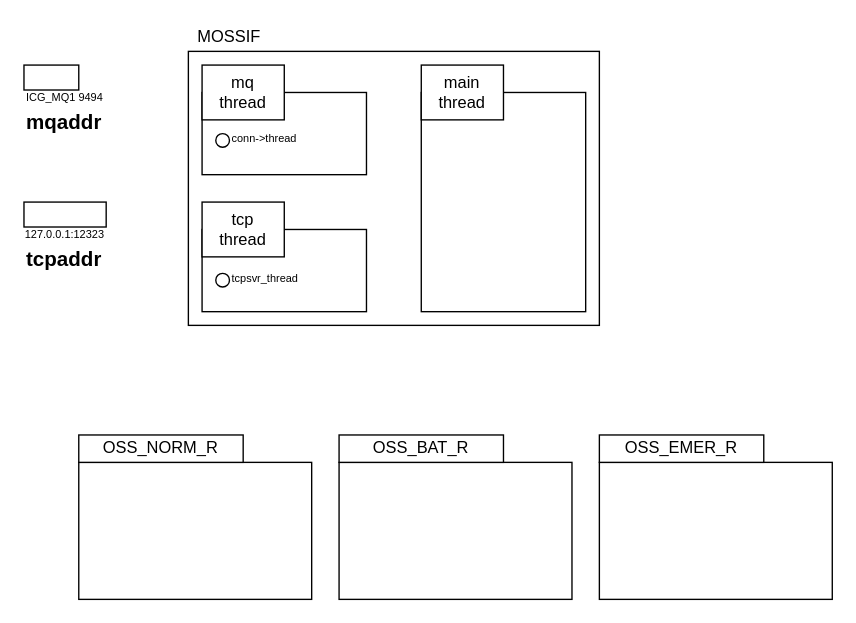
This 856x623 diagram has some shape labels left out. Each missing label, with the box of its shape:
MPROV: (23, 201, 106, 227)
MQ: (23, 64, 79, 90)
